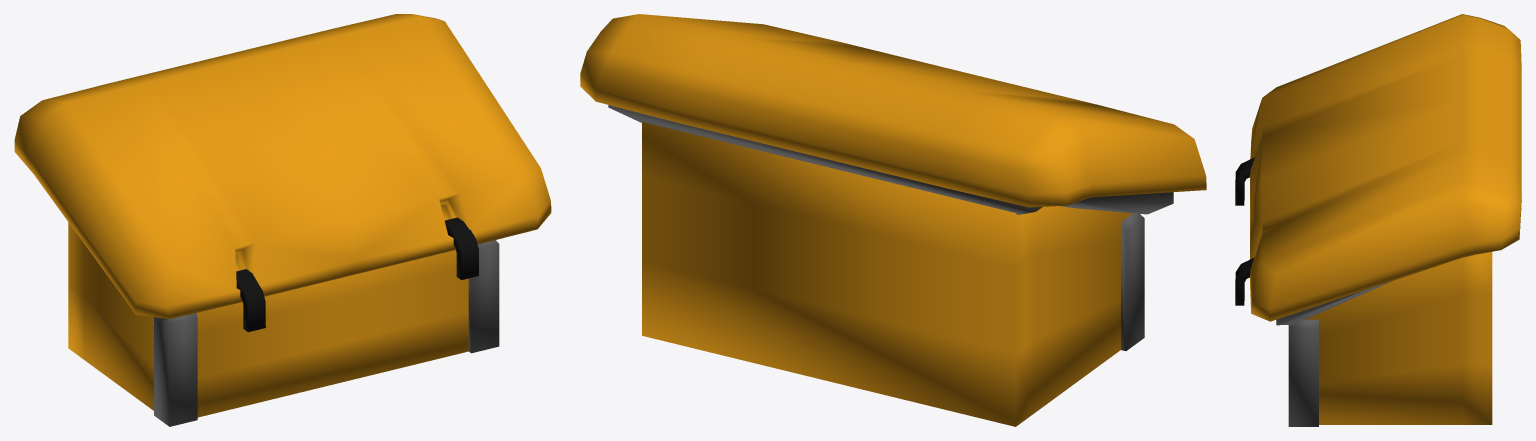
The model's file is WeaponCase.fbx.
3 views of the same model, side by side, from view 1: azimuth 30°, elevation 25°; view 2: azimuth 150°, elevation 25°; view 3: azimuth 270°, elevation 25° (orthographic). The views are drawn at different scales.
Parts seen in each view (by area): view 1: Cube.030, Cube.028; view 2: Cube.028, Cube.030; view 3: Cube.030, Cube.028.
Boxes of the visible parts, x1,y1,x2,y2 form: Cube.030: (14, 14, 551, 332); Cube.028: (68, 222, 499, 426); Cube.028: (608, 105, 1173, 426); Cube.030: (580, 14, 1206, 207); Cube.030: (1235, 14, 1521, 321); Cube.028: (1276, 252, 1492, 426).
Size of the model in its own units: 470 by 279 by 289.
